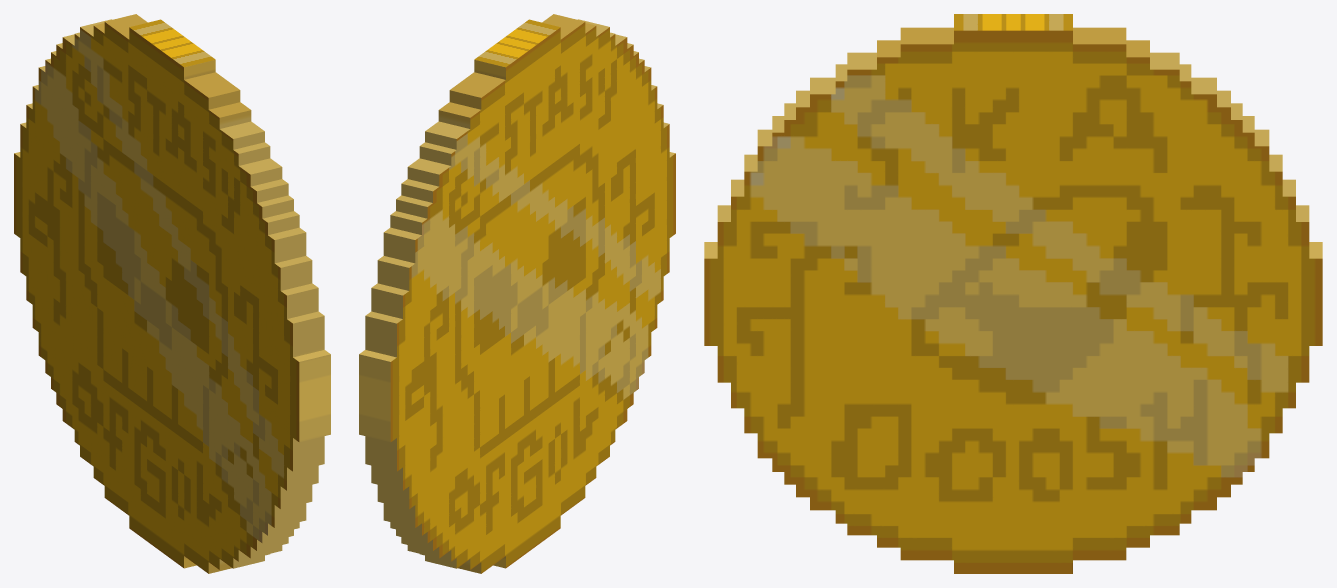
File: MONET0CHKAFINALSUKABLYATNAXUY.fbx
The picture shows the model from 3 angles, left to right: view 1: azimuth 30°, elevation 25°; view 2: azimuth 150°, elevation 25°; view 3: azimuth 270°, elevation 25°; orthographic projection. The views are drawn at different scales.
Visible parts, largest first — view 1: Cube, Cube.001; view 2: Cube, Cube.001; view 3: Cube.001.
Part boxes in pixels (bbox=[...]): Cube: bbox=[14, 22, 299, 573]; Cube.001: bbox=[14, 14, 330, 573]; Cube: bbox=[390, 22, 675, 573]; Cube.001: bbox=[359, 14, 675, 573]; Cube.001: bbox=[704, 14, 1322, 573].
Bounding box in the file's own units: 62.98 × 951 × 981.
Materials: 2 (2 with a texture image).
